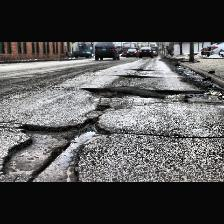pothole: (1, 116, 113, 182), (81, 87, 123, 99), (152, 88, 204, 96), (92, 104, 112, 112), (118, 75, 148, 78)
